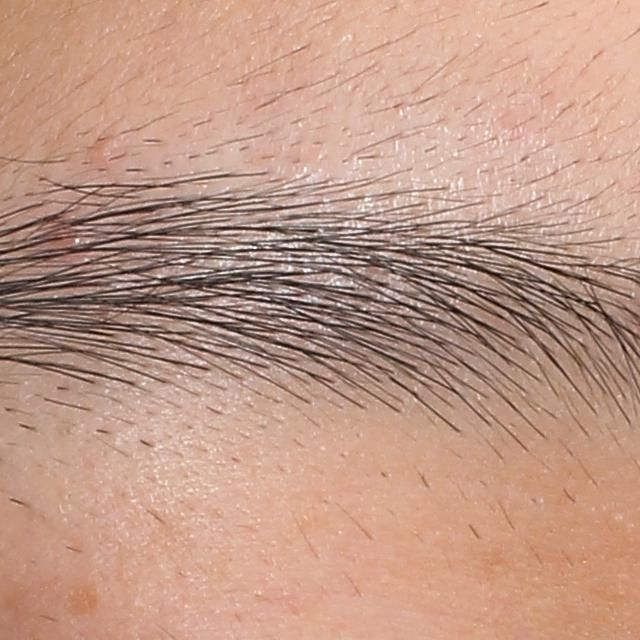melasma: (61, 577, 105, 620)
